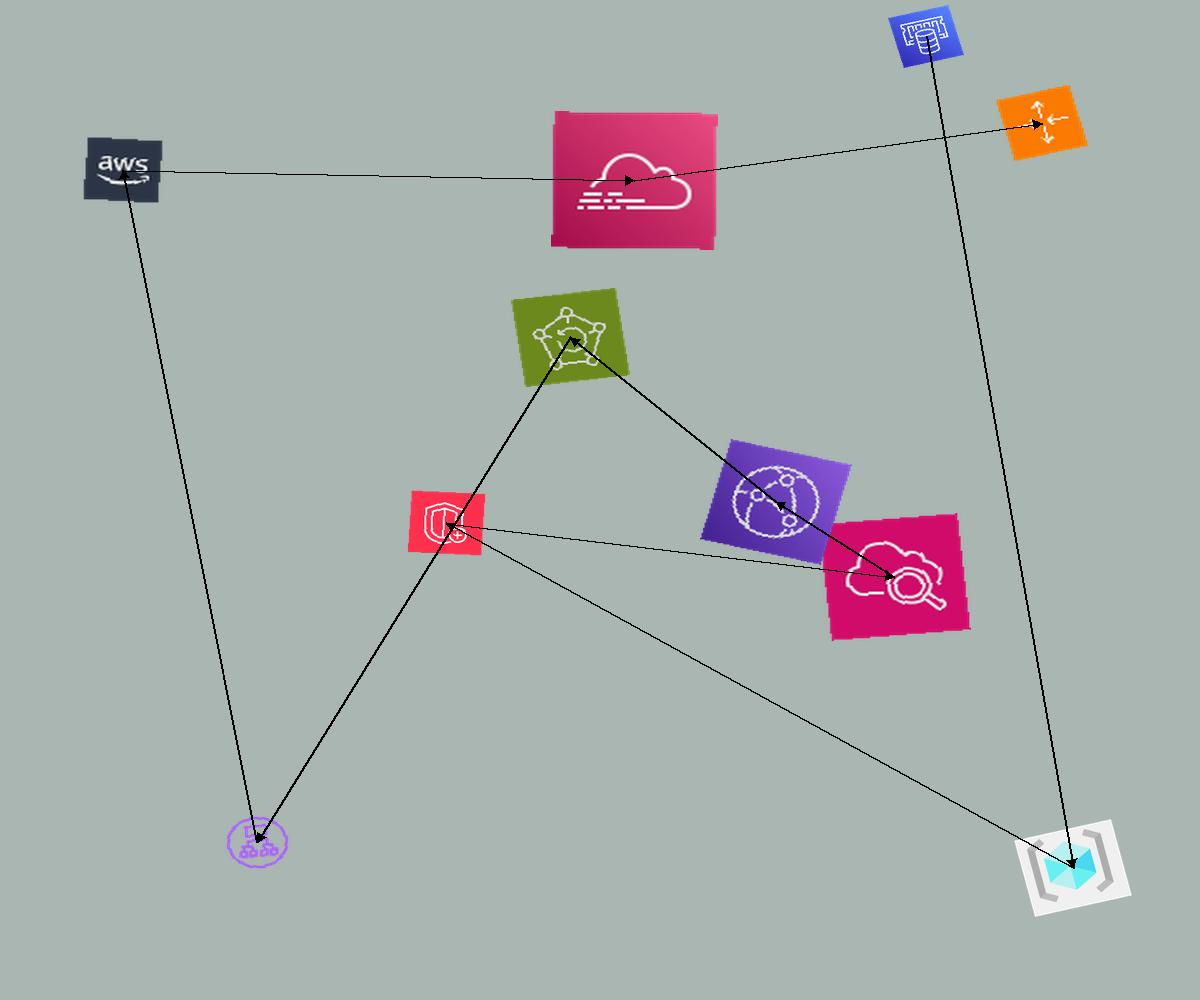AWS-Backup: (510, 287, 631, 388)
AWS-Cloud-logo: (82, 136, 164, 204)
AWS-CloudFront: (700, 439, 852, 565)
AWS-CloudTrail: (551, 111, 718, 250)
AWS-CloudWatch: (818, 513, 971, 641)
AWS-ElastiCache: (888, 5, 964, 68)
AWS-Res_Elastic-Load-Balancing_Application-Load-Balancer: (220, 811, 295, 874)
AWS-Scaling-group: (995, 84, 1089, 162)
AWS-Shield: (407, 490, 486, 556)
Azure_resource_group: (1014, 819, 1132, 917)
